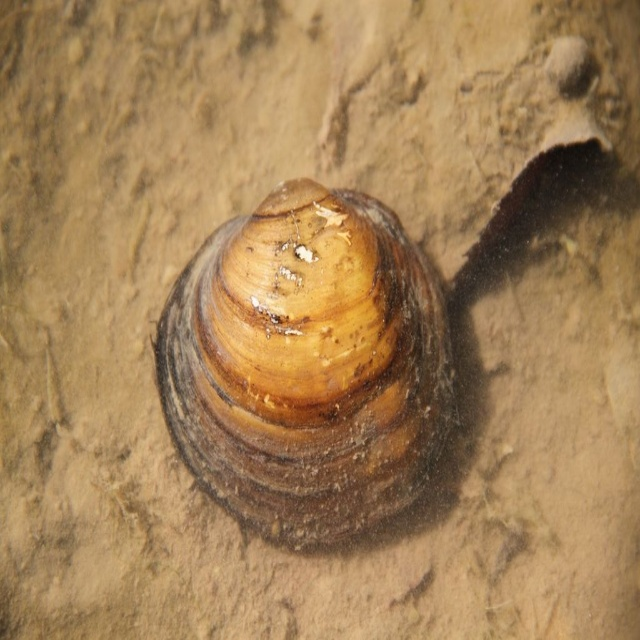Snail: (152, 178, 456, 552)
